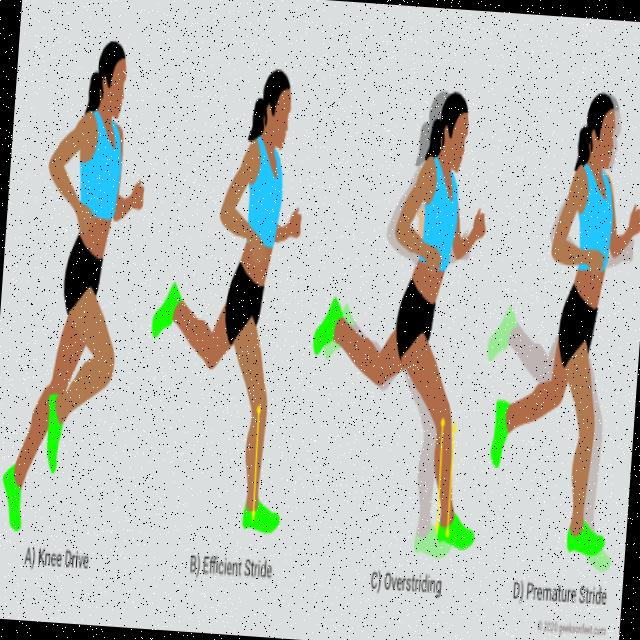Person: (299, 84, 507, 553), (137, 61, 311, 534), (0, 34, 153, 540), (482, 83, 640, 560)
